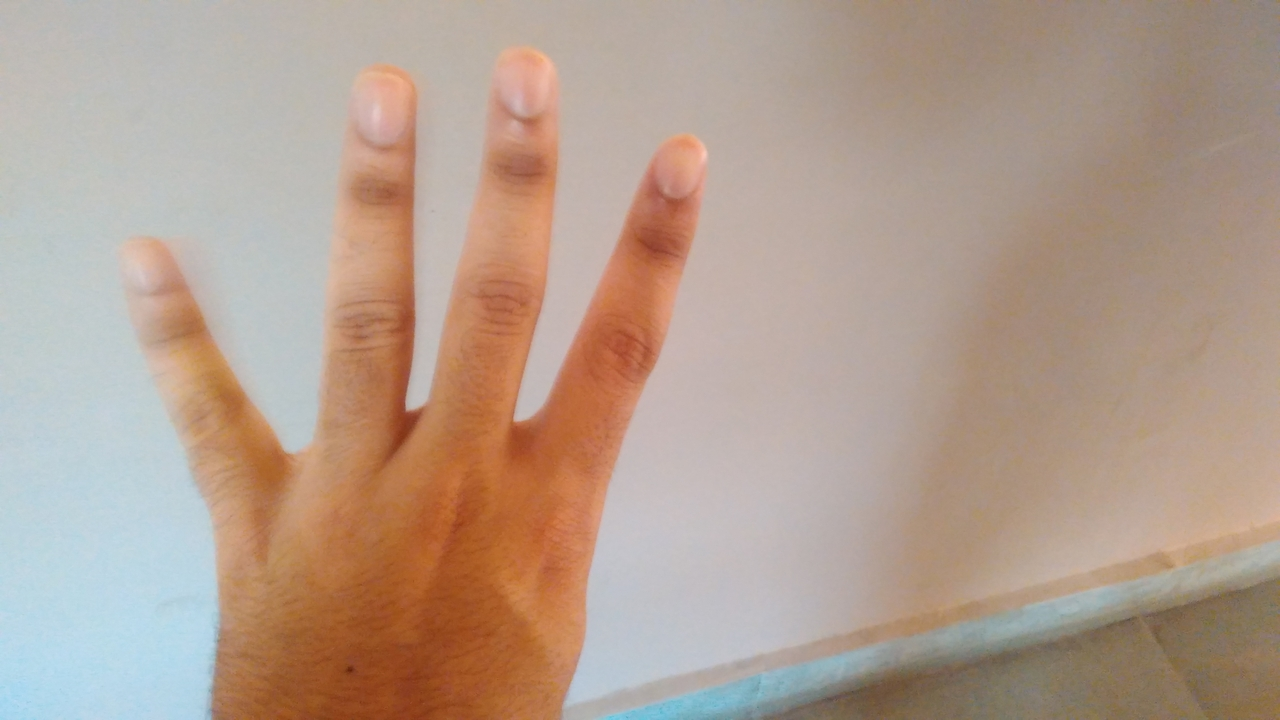fingertip: (336, 72, 414, 142), (100, 232, 189, 292), (638, 132, 716, 196), (488, 44, 558, 108)
